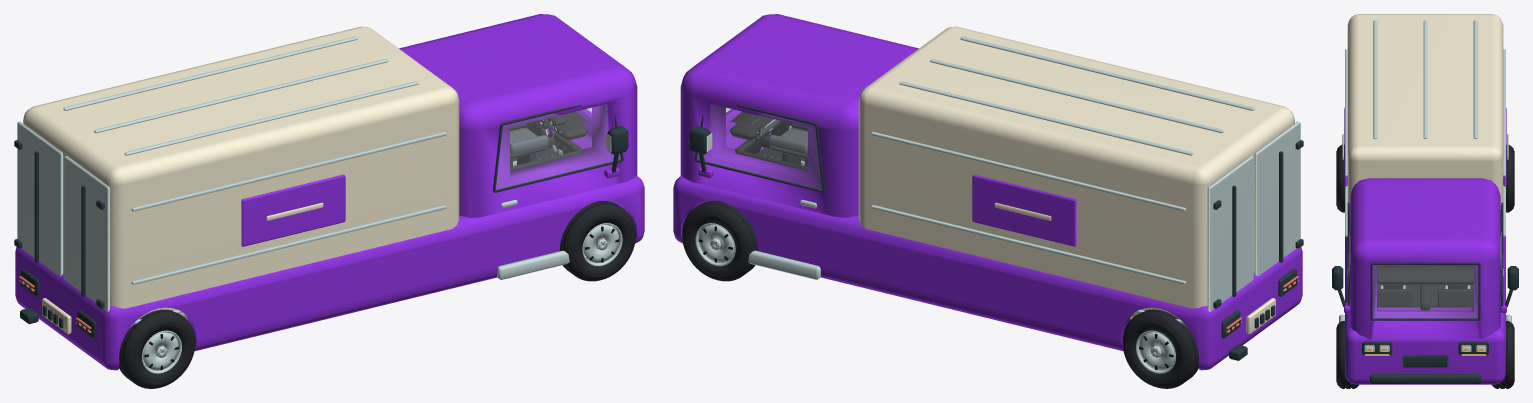
File: delivery.glb
The picture shows the model from 3 angles, left to right: view 1: azimuth 30°, elevation 25°; view 2: azimuth 150°, elevation 25°; view 3: azimuth 270°, elevation 25°; orthographic projection. The views are drawn at different scales.
Visible parts, largest first — view 1: Warm white trim.008, Paint delivery, Wheel hubs.008, Rolling wheels.008, Automotive glass.008, Tyre rubber.008, Cabin upholstery.008, Tailored cabin leather.008; view 2: Warm white trim.008, Paint delivery, Wheel hubs.008, Rolling wheels.008, Automotive glass.008, Tyre rubber.008, Cabin upholstery.008, Tailored cabin leather.008; view 3: Paint delivery, Warm white trim.008, Automotive glass.008, Tyre rubber.008, Cabin upholstery.008, Wheel hubs.008, Rolling wheels.008, Headlamp.008.
Part boxes in pixels (bbox=[...]): Warm white trim.008: bbox=[23, 26, 551, 334]; Paint delivery: bbox=[15, 14, 644, 370]; Wheel hubs.008: bbox=[17, 36, 569, 324]; Rolling wheels.008: bbox=[119, 200, 635, 388]; Automotive glass.008: bbox=[496, 104, 620, 189]; Tyre rubber.008: bbox=[14, 105, 628, 356]; Cabin upholstery.008: bbox=[510, 111, 589, 170]; Tailored cabin leather.008: bbox=[510, 128, 548, 154]; Warm white trim.008: bbox=[858, 26, 1294, 333]; Paint delivery: bbox=[673, 14, 1302, 370]; Wheel hubs.008: bbox=[748, 36, 1300, 324]; Rolling wheels.008: bbox=[682, 200, 1198, 388]; Automotive glass.008: bbox=[697, 104, 821, 189]; Tyre rubber.008: bbox=[689, 105, 1303, 360]; Cabin upholstery.008: bbox=[728, 111, 807, 170]; Tailored cabin leather.008: bbox=[760, 120, 807, 154]; Paint delivery: bbox=[1344, 108, 1506, 384]; Warm white trim.008: bbox=[1342, 14, 1508, 258]; Automotive glass.008: bbox=[1349, 228, 1501, 318]; Tyre rubber.008: bbox=[1332, 202, 1518, 383]; Cabin upholstery.008: bbox=[1377, 266, 1473, 310]; Wheel hubs.008: bbox=[1339, 20, 1511, 351]; Rolling wheels.008: bbox=[1336, 145, 1514, 388]; Headlamp.008: bbox=[1364, 347, 1486, 355].
Bounding box in the file's own units: 2.96 × 1.13 × 1.04.
